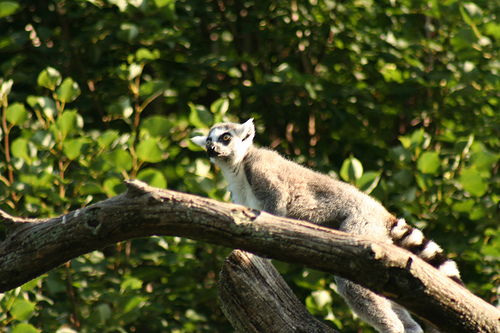cat: (190, 116, 460, 331)
